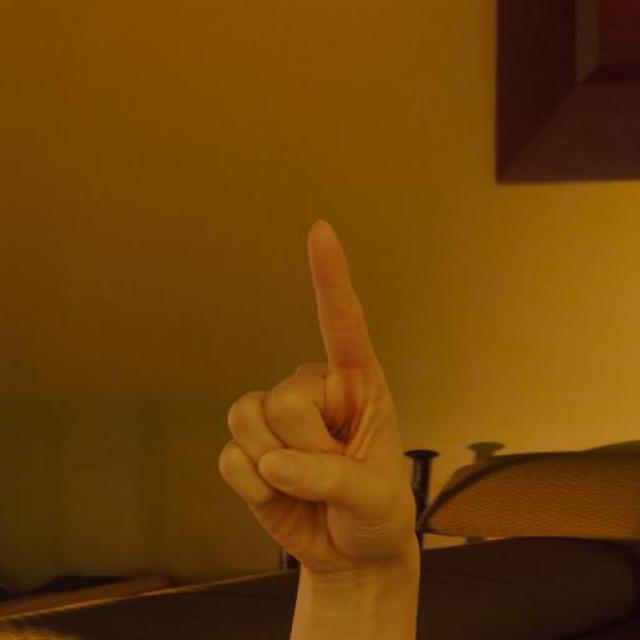Z: (212, 217, 424, 572)
